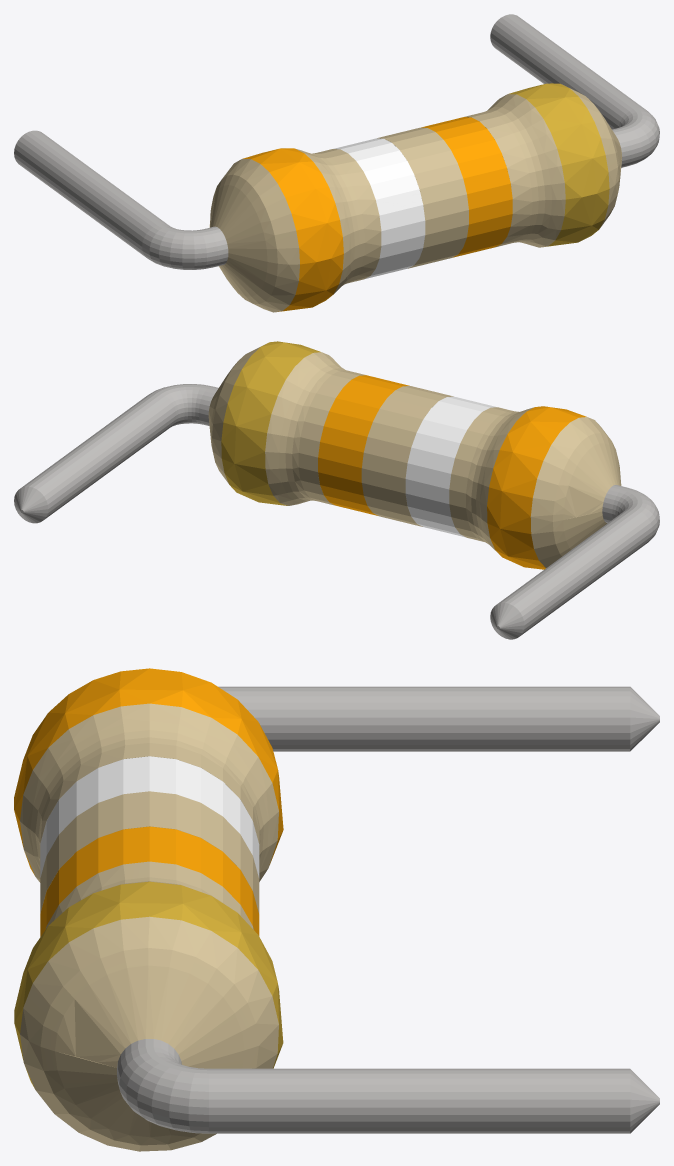
Rendered from Yageo CFR-25 Resistor Axial P7.62mm 39,0 kOhm.obj.
3 renders of one model, top to bottom at view 1: azimuth 30°, elevation 25°; view 2: azimuth 150°, elevation 25°; view 3: azimuth 270°, elevation 25°, orthographic. The views are drawn at different scales.
Visible parts, largest first — view 1: Yageo_CFR-25_Resistor_Axial_P7.62mm_39,0_kOhm; view 2: Yageo_CFR-25_Resistor_Axial_P7.62mm_39,0_kOhm; view 3: Yageo_CFR-25_Resistor_Axial_P7.62mm_39,0_kOhm.
Part boxes in pixels (bbox=[...]): Yageo_CFR-25_Resistor_Axial_P7.62mm_39,0_kOhm: bbox=[14, 14, 659, 312]; Yageo_CFR-25_Resistor_Axial_P7.62mm_39,0_kOhm: bbox=[14, 341, 659, 639]; Yageo_CFR-25_Resistor_Axial_P7.62mm_39,0_kOhm: bbox=[14, 668, 659, 1151].
Bounding box in the file's own units: 0.0243 × 0.00671 × 0.0162.
